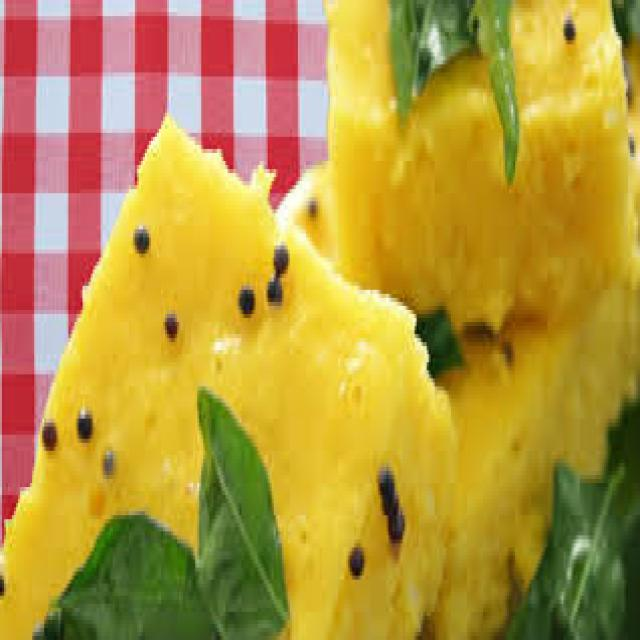DHOKLA: (322, 0, 638, 632), (0, 543, 2, 572)
